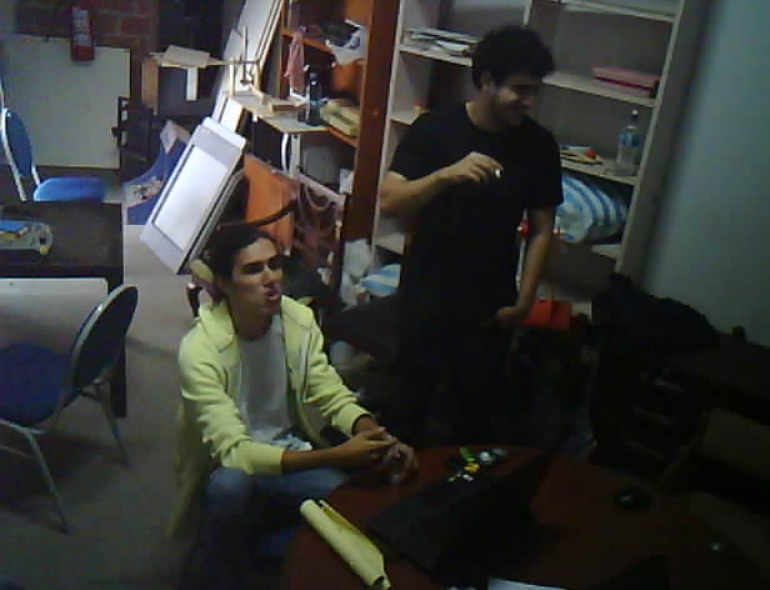person: (137, 207, 414, 590), (372, 15, 571, 442)
